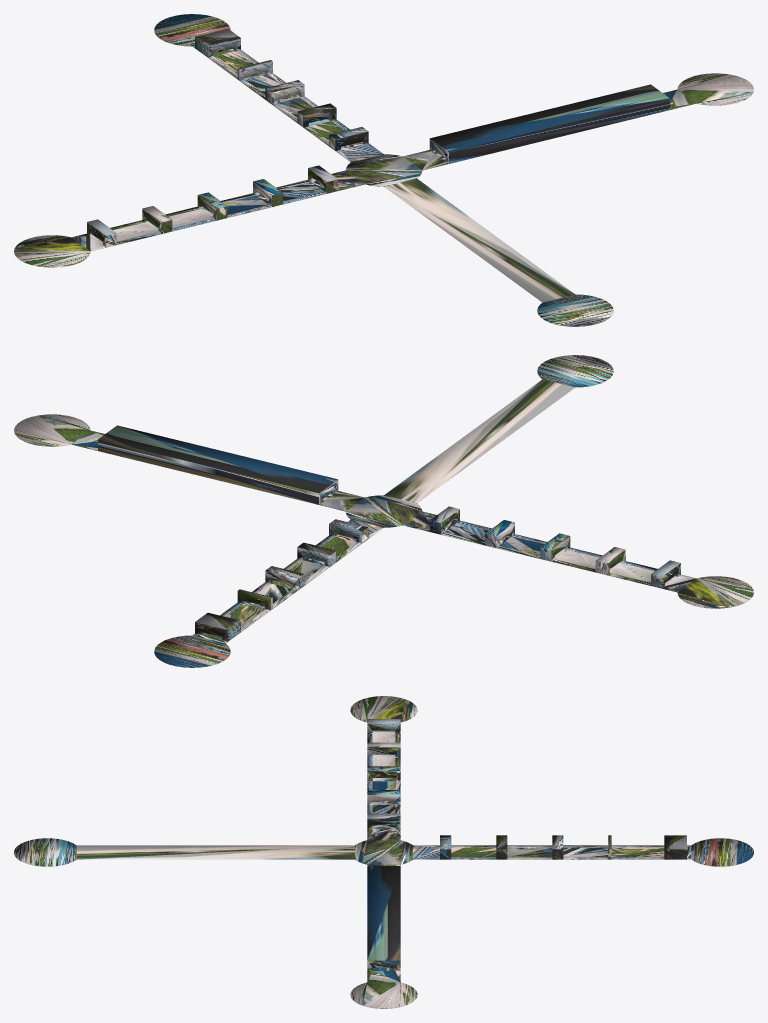
File: parkour_3.dae
The picture shows the model from 3 angles, top to bottom: view 1: azimuth 30°, elevation 25°; view 2: azimuth 150°, elevation 25°; view 3: azimuth 270°, elevation 25°; orthographic projection. The views are drawn at different scales.
Parts seen in each view (by area): view 1: Parkour_2; view 2: Parkour_2; view 3: Parkour_2.
Part boxes in pixels (x1,y1,x2,y2): Parkour_2: (14, 14, 753, 326); Parkour_2: (14, 355, 753, 667); Parkour_2: (14, 696, 753, 1008).
Size of the model in its own units: 65.97 by 65.97 by 1.01.
1 material, 1 textured.
